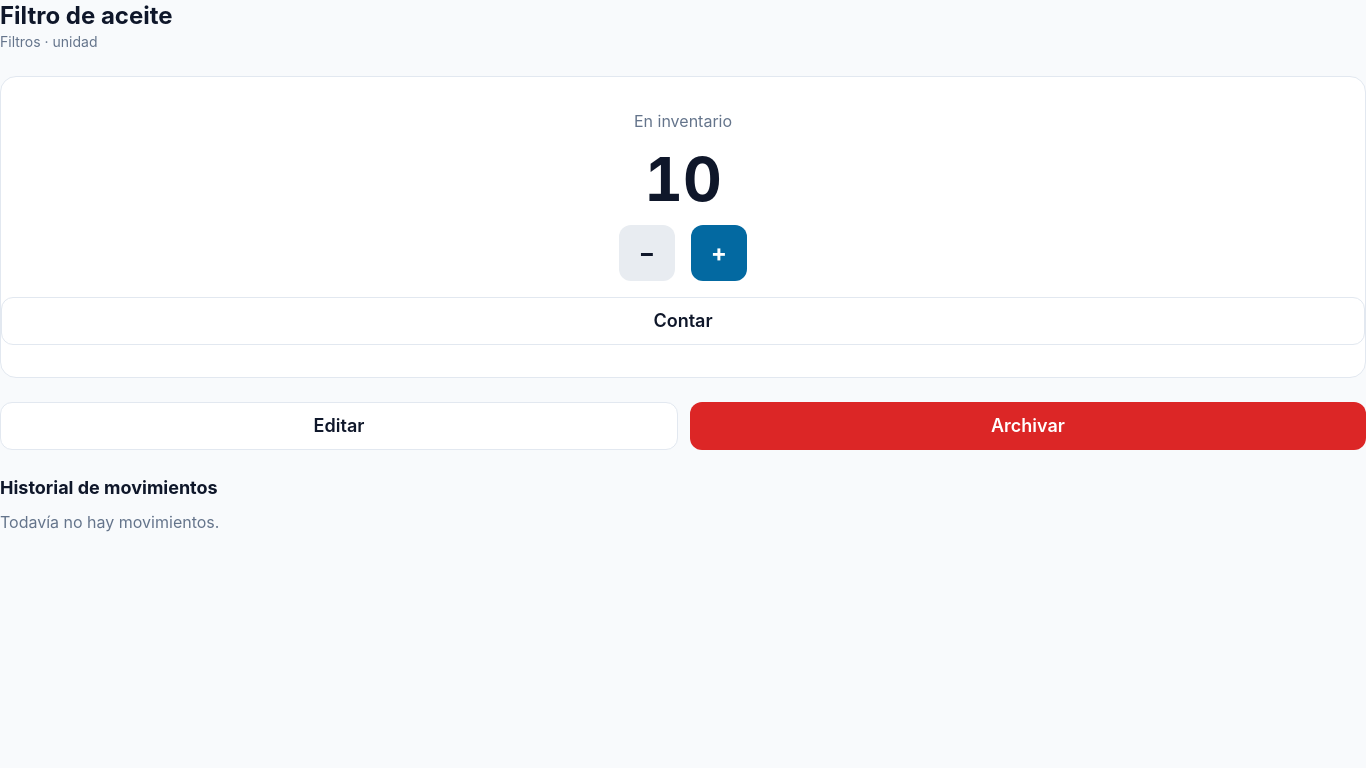
it: ItemDetailPage › refuses to save an empty count and explains why, instead of recording it
Expected: the text "10" is shown, [644, 149, 722, 209]
Click the button "Contar" at (683, 321), box [1, 297, 1365, 345]
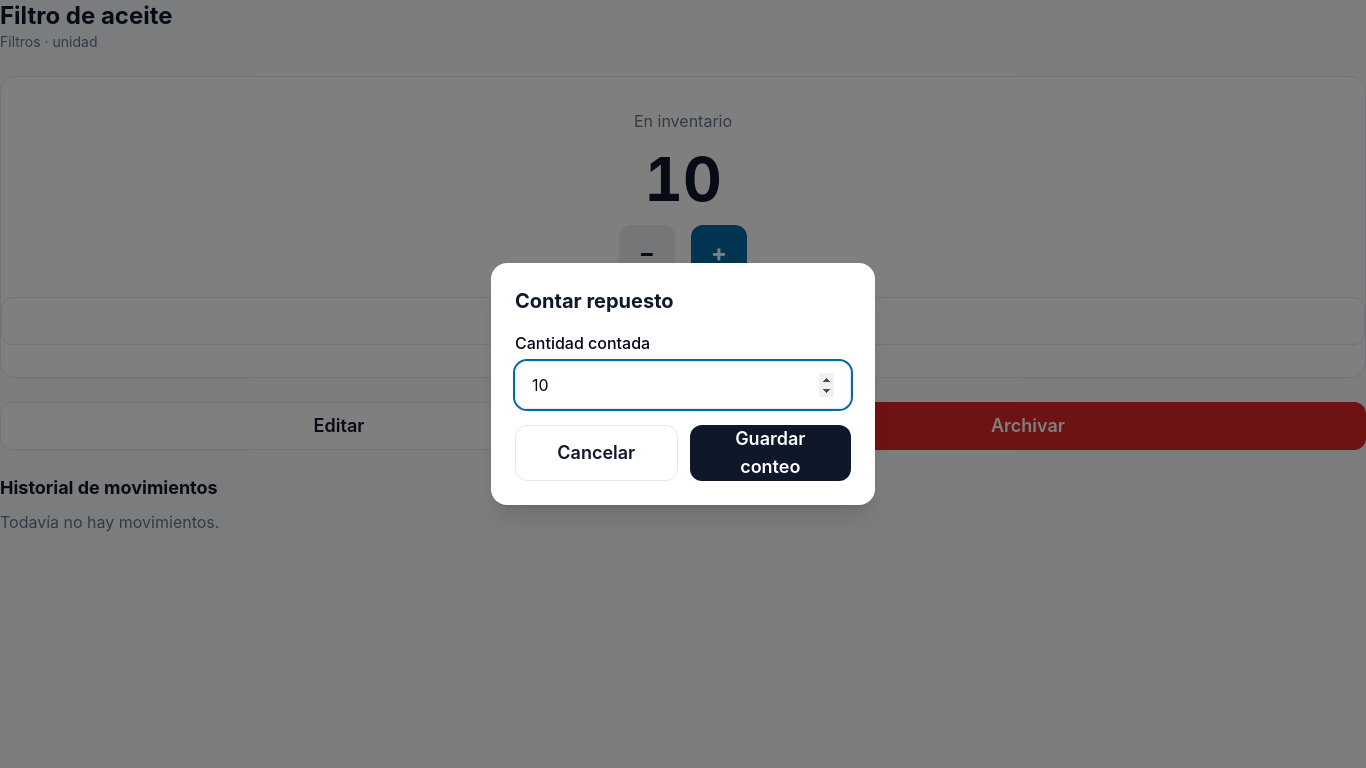
Clear the number field labelled "Cantidad contada" at (683, 385), box [515, 361, 851, 409]
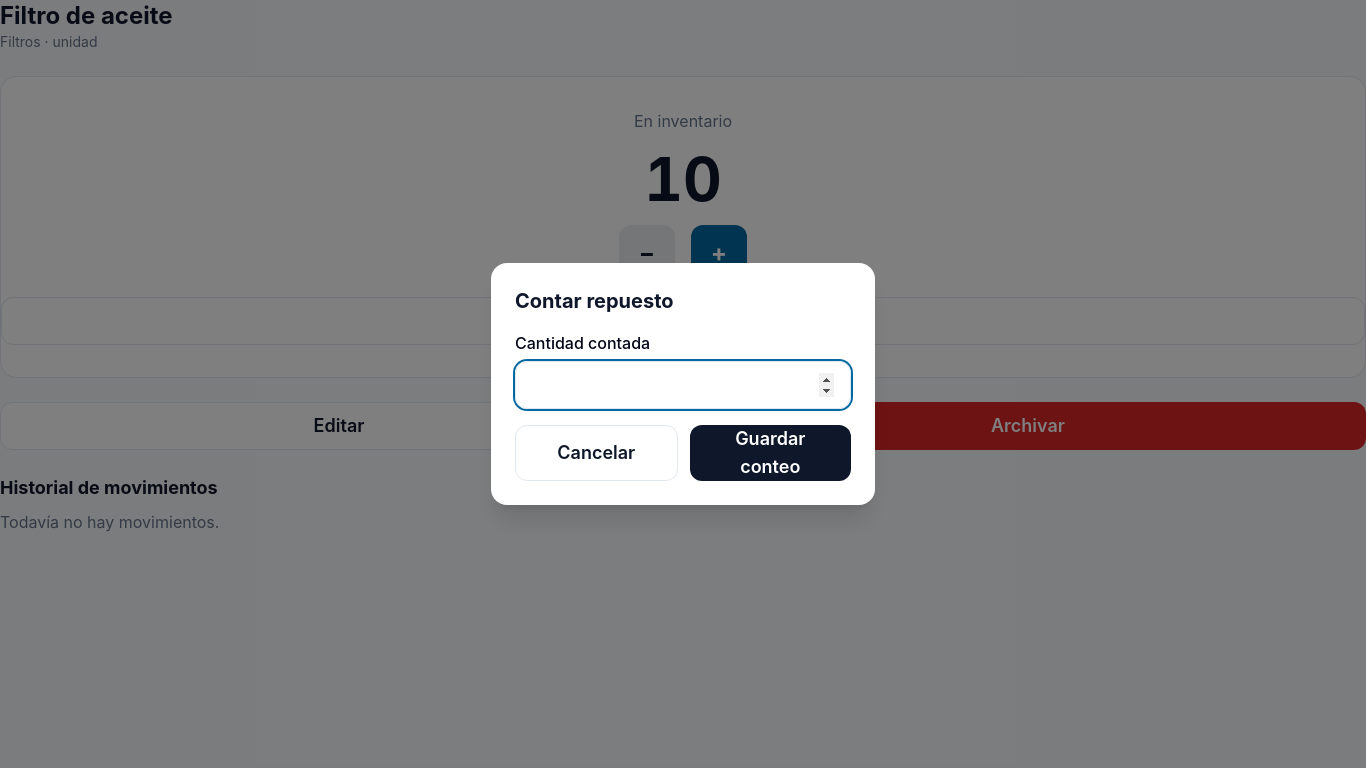
Click the button "Guardar conteo" at (770, 453), box [690, 425, 851, 481]
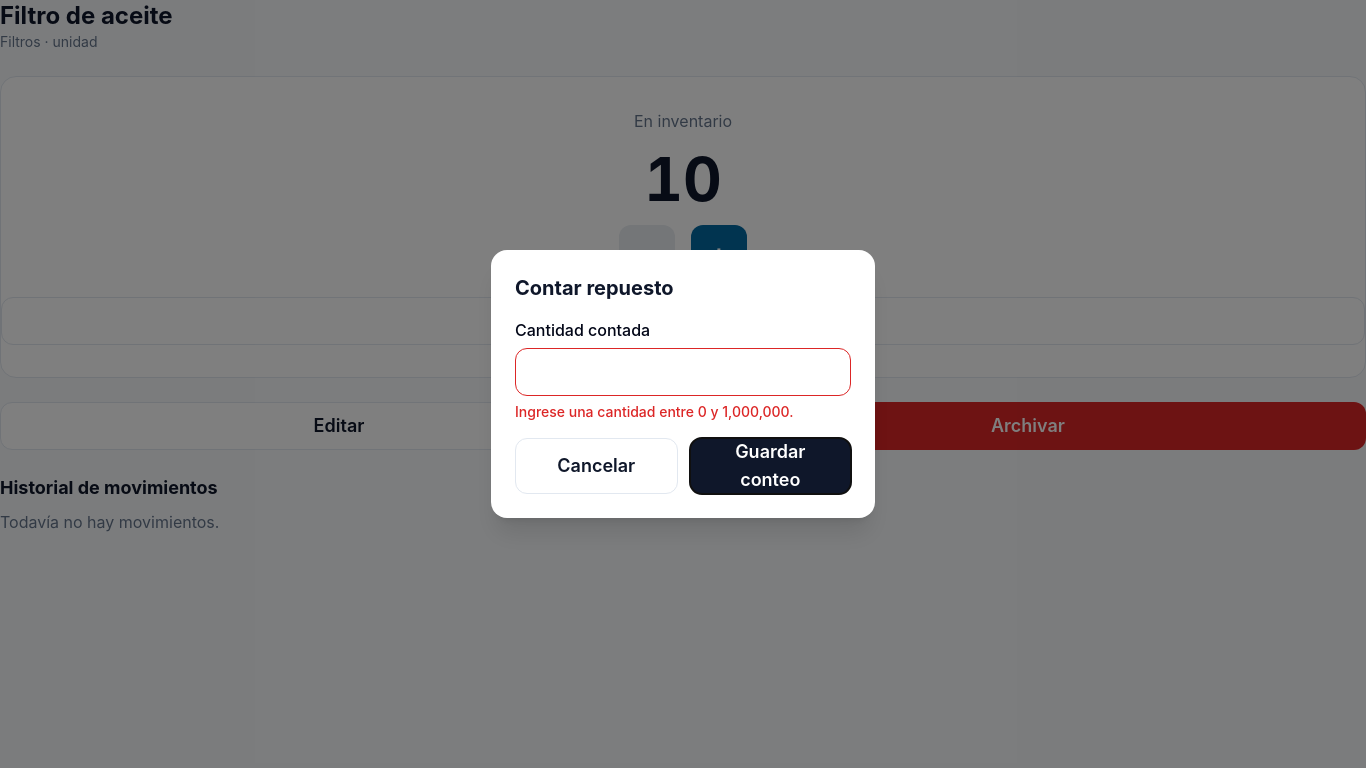
Expected: the text "10" is shown, [644, 149, 722, 209]
Result: the text "Ingrese una cantidad entre 0 y 1,000,000." is shown at [515, 403, 794, 420]
